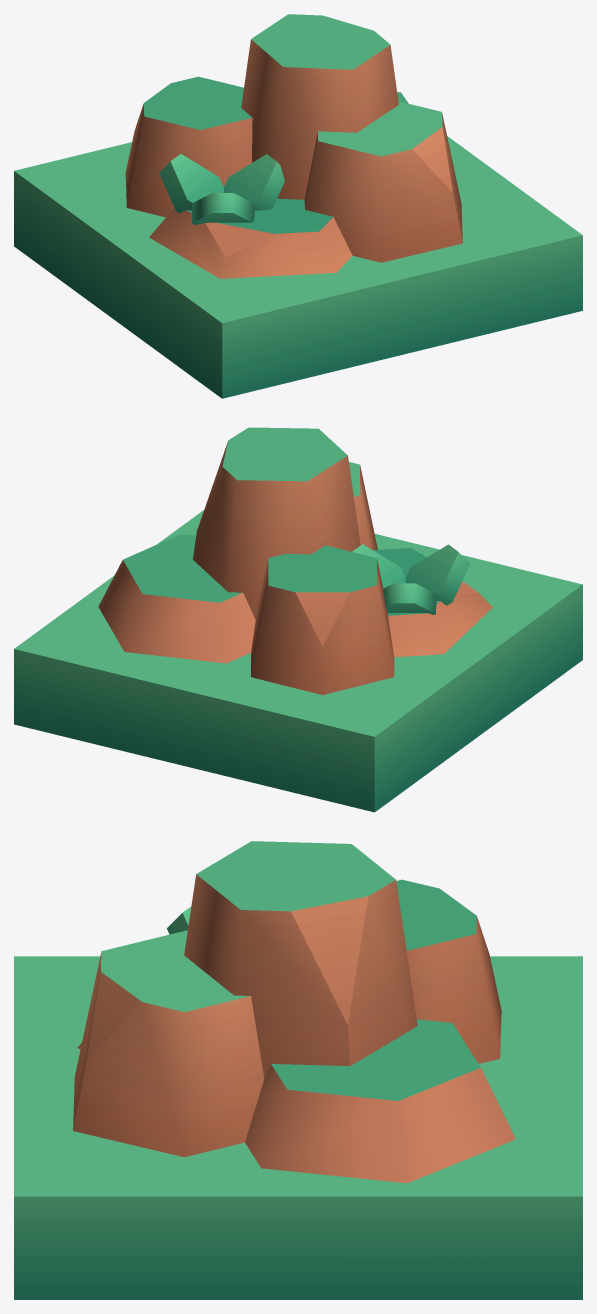
The model's file is kenney-tower-defense-tile-rock.glb.
3 views of the same model, one above another, from view 1: azimuth 30°, elevation 25°; view 2: azimuth 150°, elevation 25°; view 3: azimuth 270°, elevation 25° (orthographic). The views are drawn at different scales.
Visible parts, largest first — view 1: tile-rock; view 2: tile-rock; view 3: tile-rock.
Part boxes in pixels (x1,y1,x2,y2): tile-rock: [14, 14, 582, 398]; tile-rock: [14, 427, 582, 812]; tile-rock: [14, 841, 582, 1299].
Bounding box in the file's own units: 1 × 0.6146 × 1.
Materials: 1 (1 with a texture image).
